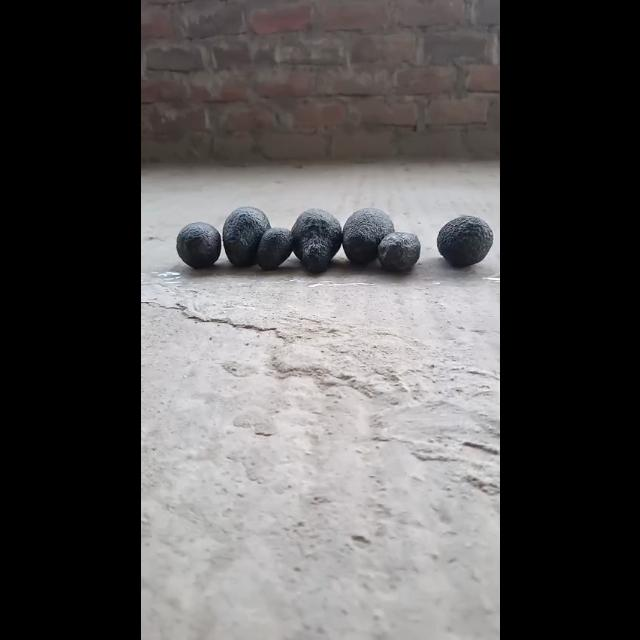Primera: (290, 206, 342, 272), (220, 205, 270, 267), (435, 215, 493, 268), (341, 207, 394, 263)
Segunda: (173, 220, 220, 268), (377, 230, 421, 272)
Tercera: (255, 226, 293, 270)
